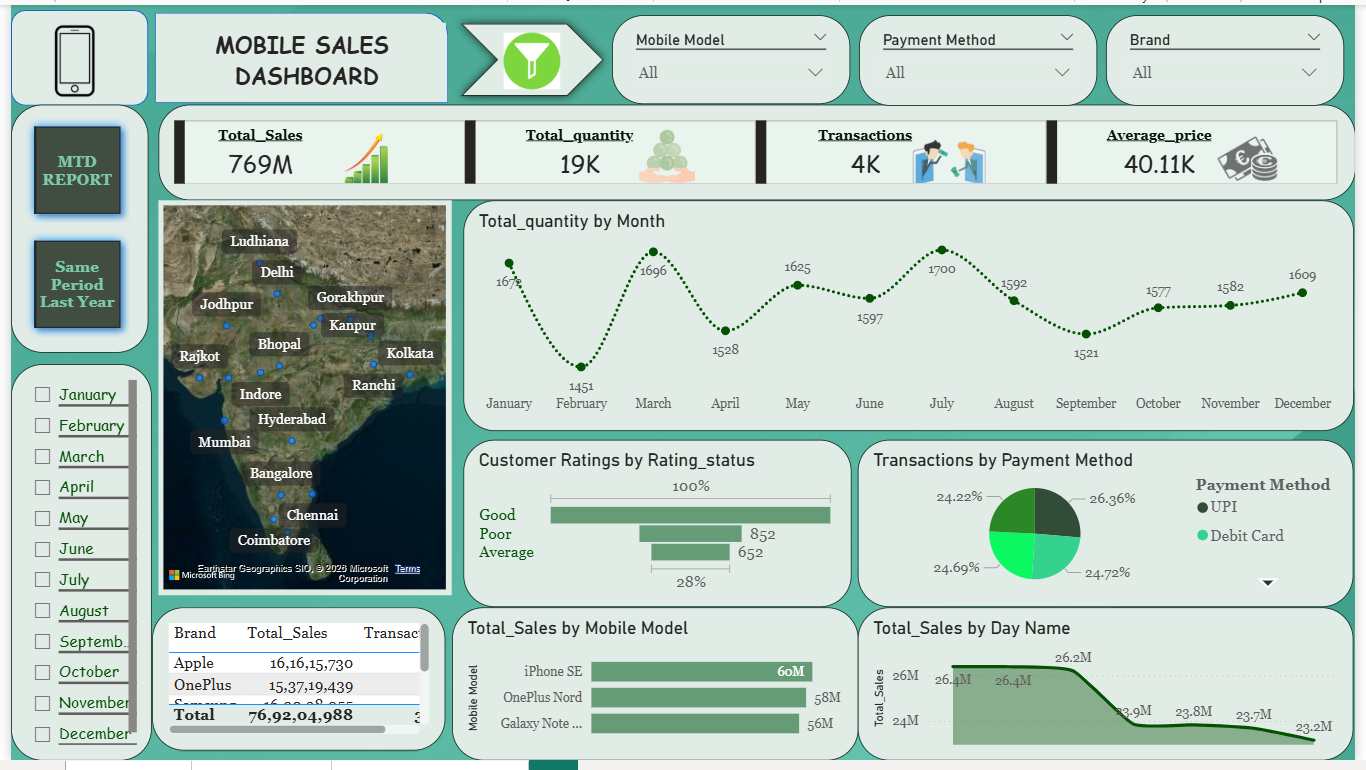

The dashboard page shown, as its layout file describes it:
{"tool":"powerbi","page":{"name":"Dashboard","canvas":[1280,720],"ordinal":0},"visuals":[{"type":"shape","box":[420.1,9.6,152.4,85.2],"z":0},{"type":"shape","box":[0,4.8,130.8,91.2],"z":1000},{"type":"image","box":[7.2,12,106.8,82.8],"z":2000},{"type":"shape","box":[0,94.8,130.8,236.4],"z":3000},{"type":"cardVisual","fields":{"Data":["Sales_Data.Total_Sales","Sales_Data.Total_quantity","Sales_Data.Transactions","Sales_Data.Average_price"]},"box":[140.4,94.8,1140.2,91.2],"z":4000},{"type":"slicer","fields":{"Values":["Sales_Data.Brand"]},"box":[1043,9.6,226.8,86.4],"z":5000},{"type":"slicer","fields":{"Values":["Sales_Data.Payment Method"]},"box":[807.7,9.6,226.8,86.4],"z":6000},{"type":"slicer","fields":{"Values":["Sales_Data.Mobile Model"]},"box":[572.5,9.6,226.8,85.2],"z":7000},{"type":"shape","box":[136.8,7.2,279.6,86.4],"z":8000},{"type":"textbox","box":[140.4,16.8,273.6,70.8],"z":9000},{"type":"map","title":"Total Sales by City","fields":{"Category":["Sales_Data.City"]},"box":[140.3,186.1,279.2,376.5],"z":10000},{"type":"lineChart","fields":{"Category":["Custom_calendar.Date.Variation.Date Hierarchy.Month"],"Y":["Sales_Data.Total_quantity"]},"box":[430.6,186.1,848.8,219.5],"z":11000},{"type":"funnel","title":"Customer Ratings by Rating_status","fields":{"Y":["CountNonNull(Sales_Data.Customer Ratings)"],"Category":["Sales_Data.Rating_status"]},"box":[430.6,414,369.5,159.8],"z":12000},{"type":"pieChart","fields":{"Y":["Sales_Data.Transactions"],"Category":["Sales_Data.Payment Method"]},"box":[807.1,414,472.3,159.8],"z":13000},{"type":"clusteredBarChart","fields":{"Category":["Sales_Data.Mobile Model"],"Y":["Sales_Data.Total_Sales"]},"box":[419.5,573.7,387.6,145.9],"z":14000},{"type":"areaChart","fields":{"Y":["Sales_Data.Total_Sales"],"Category":["Custom_calendar.Day Name"]},"box":[807.1,573.7,472.3,145.9],"z":15000},{"type":"tableEx","fields":{"Values":["Sales_Data.Brand","Sales_Data.Total_Sales","Sales_Data.Transactions"]},"box":[134.7,573.7,279.2,136.1],"z":16000},{"type":"image","box":[464,19.4,63.9,68.1],"z":17000},{"type":"slicer","fields":{"Values":["Custom_calendar.Date.Variation.Date Hierarchy.Month"]},"box":[0,342.1,134.4,378.1],"z":18000},{"type":"pageNavigator","box":[13.2,106.8,100.8,211.2],"z":19000}]}

Visuals, with their boxes in screenshot pixels (x1, y1, x2, y2), scaled from the page's 1280x720 canvas onto the 1366x770 screenshot:
shape: 448 10 611 101
shape: 0 5 140 103
image: 8 13 122 101
shape: 0 101 140 354
cardVisual - Sales_Data.Total_Sales x Sales_Data.Total_quantity: 150 101 1365 199
slicer - Sales_Data.Brand: 1113 10 1355 103
slicer - Sales_Data.Payment Method: 862 10 1104 103
slicer - Sales_Data.Mobile Model: 611 10 853 101
shape: 146 8 444 100
textbox: 150 18 442 94
"Total Sales by City" map: 150 199 448 602
lineChart - Custom_calendar.Date.Variation.Date Hierarchy.Month x Sales_Data.Total_quantity: 460 199 1365 434
"Customer Ratings by Rating_status" funnel: 460 443 854 614
pieChart - Sales_Data.Transactions x Sales_Data.Payment Method: 861 443 1365 614
clusteredBarChart - Sales_Data.Mobile Model x Sales_Data.Total_Sales: 448 614 861 769
areaChart - Sales_Data.Total_Sales x Custom_calendar.Day Name: 861 614 1365 769
tableEx - Sales_Data.Brand x Sales_Data.Total_Sales: 144 614 442 759
image: 495 21 563 94
slicer - Custom_calendar.Date.Variation.Date Hierarchy.Month: 0 366 143 769
pageNavigator: 14 114 122 340
